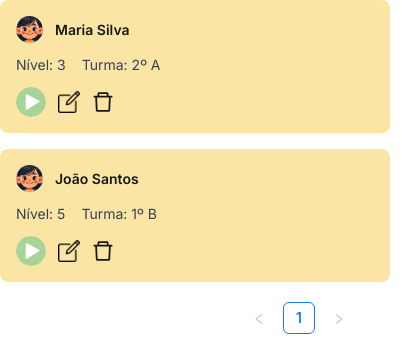
Test: CustomTable › shows success message after successful deletion
Click the picture named "delete" below "Maria Silva" at (103, 102), box [92, 91, 114, 113]
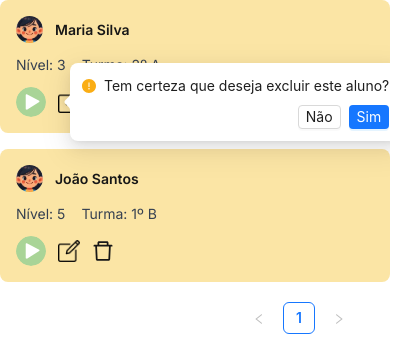
Click the button "Sim" at (369, 117), box [349, 105, 389, 129]
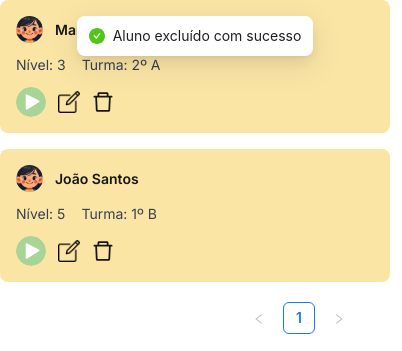
Now the text "Aluno excluído com sucesso" is shown, box [113, 25, 301, 47]
